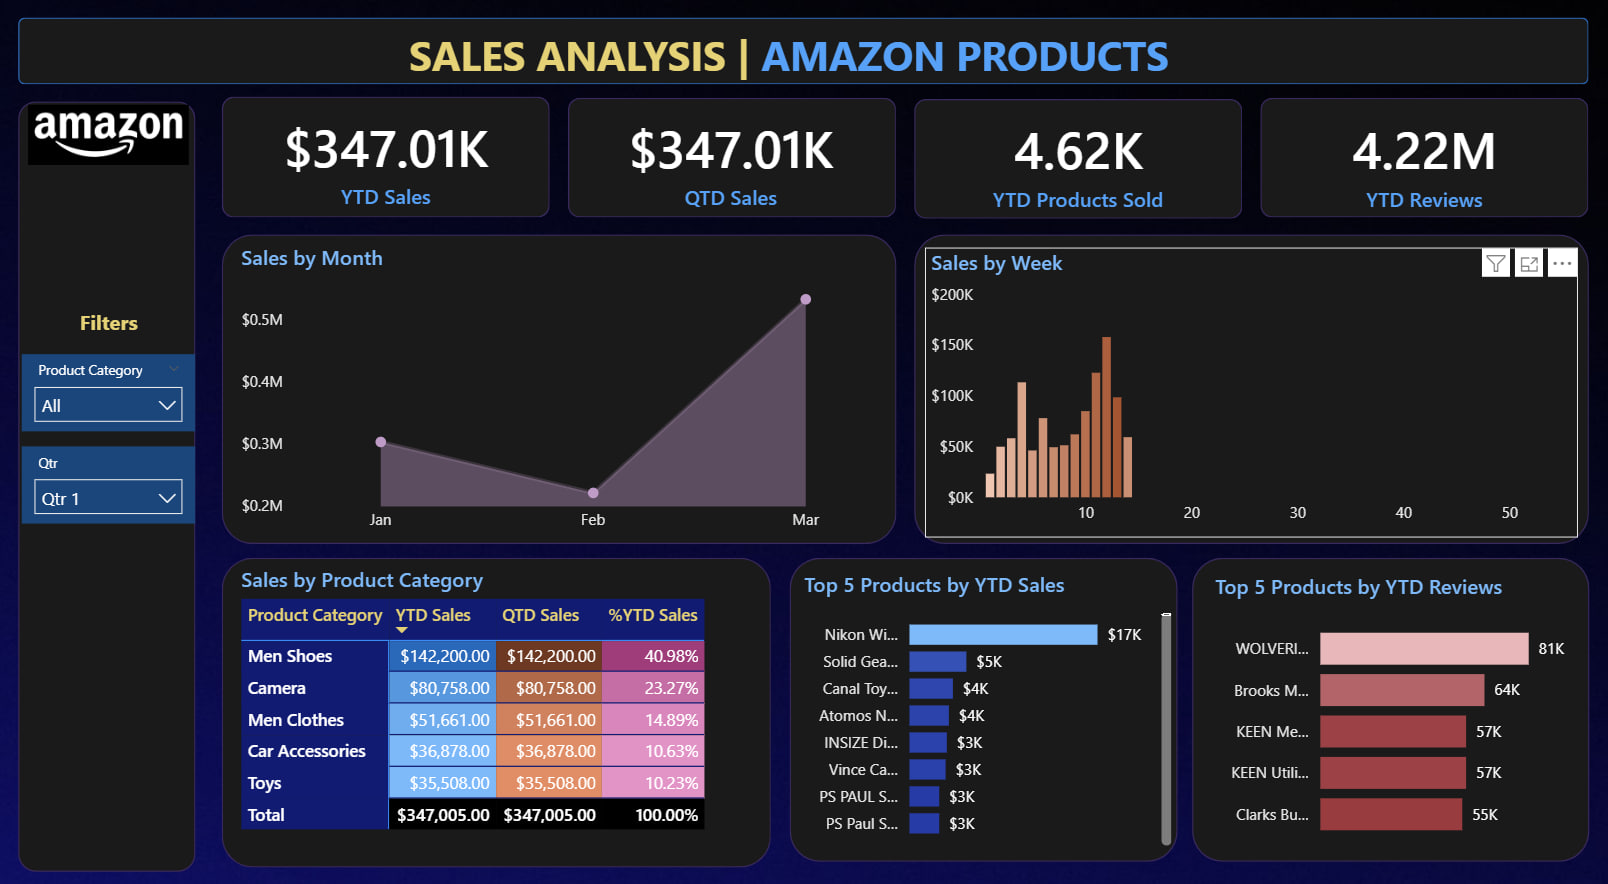

This screenshot's page, from the dashboard's own definition file:
{"tool":"powerbi","page":{"name":"Page 1","canvas":[1280,720],"ordinal":0},"visuals":[{"type":"card","fields":{"Values":["Amazon_Data.YTD Sales"]},"box":[180.9,86.4,259.1,96.4],"z":0,"group":"g1"},{"type":"shape","box":[20,88.2,140,608.2],"z":0},{"type":"card","fields":{"Values":["Amazon_Data.QTD Sales"]},"box":[453.6,87.3,259.1,96.4],"z":1000,"group":"g1"},{"type":"shape","box":[20,21.4,1240,52.9],"z":1000},{"type":"card","fields":{"Values":["Amazon_Data.YTD Products Sold"]},"box":[727.3,88.2,259.1,96.4],"z":2000,"group":"g1"},{"type":"textbox","box":[314,17,611,62.4],"z":2000},{"type":"card","fields":{"Values":["Amazon_Data.YTD Reviews"]},"box":[1000.9,88.2,259.1,96.4],"z":3000,"group":"g1"},{"type":"shape","box":[181.1,84.4,258.9,95.6],"z":3000},{"type":"shape","box":[1000.9,85.5,259.1,94.5],"z":4000},{"type":"shape","box":[727.6,86.4,259.1,94.5],"z":5000},{"type":"shape","box":[454.2,85.5,259.1,94.5],"z":6000},{"type":"group","id":"g1","title":"Group 1","box":[180.9,86.4,1079.1,98.2],"z":7000},{"type":"shape","box":[180.9,192.7,532.7,244.5],"z":8000},{"type":"areaChart","title":"Sales by Month","fields":{"Category":["Date Table.Month Name"],"Y":["Sum(Amazon_Data.Price(Dollar))"]},"box":[190.9,199.1,522.7,238.2],"z":9000},{"type":"shape","box":[727.3,192.7,532.7,244.5],"z":10000},{"type":"columnChart","title":"Sales by Week","fields":{"Category":["Date Table.Week"],"Y":["Sum(Amazon_Data.Price(Dollar))"]},"box":[735.5,203.6,515.5,228.2],"z":11000},{"type":"shape","box":[180.9,448.2,433.6,244.5],"z":12000},{"type":"pivotTable","title":"Sales by Product Category","fields":{"Rows":["Amazon_Data.Product Category"],"Values":["Amazon_Data.YTD Sales1","Amazon_Data.QTD Sales","Amazon_Data.YTD Sales"]},"box":[190.9,453.6,428.2,234.5],"z":13000},{"type":"shape","box":[629.1,448.2,306.4,240],"z":14000},{"type":"shape","box":[946.4,448.2,313.6,240],"z":15000},{"type":"clusteredBarChart","title":"Top 5 Products by YTD Sales","fields":{"Category":["Amazon_Data.Product Description"],"Y":["Amazon_Data.YTD Sales"]},"box":[635.5,458.2,300,222.7],"z":16000},{"type":"clusteredBarChart","title":"Top 5 Products by YTD Reviews","fields":{"Category":["Amazon_Data.Product Description"],"Y":["Amazon_Data.YTD Reviews"]},"box":[960,460,300,222.7],"z":17000},{"type":"image","box":[22.7,24.5,137.3,179.1],"z":18000},{"type":"slicer","fields":{"Values":["Amazon_Data.Product Category"]},"box":[22.7,287.3,137.3,60.9],"z":19000},{"type":"slicer","fields":{"Values":["Date Table.Qtr"]},"box":[22.7,360,137.3,60.9],"z":20000},{"type":"textbox","box":[22.7,246.4,137.3,40.9],"z":21000}]}

Visuals, with their boxes in screenshot pixels (x1, y1, x2, y2), scaled from the page's 1280x720 canvas onto the 1608x884 screenshot:
card - Amazon_Data.YTD Sales: (227, 106, 553, 224)
shape: (25, 108, 201, 855)
card - Amazon_Data.QTD Sales: (570, 107, 895, 226)
shape: (25, 26, 1583, 91)
card - Amazon_Data.YTD Products Sold: (914, 108, 1239, 227)
textbox: (394, 21, 1162, 97)
card - Amazon_Data.YTD Reviews: (1257, 108, 1583, 227)
shape: (228, 104, 553, 221)
shape: (1257, 105, 1583, 221)
shape: (914, 106, 1240, 222)
shape: (571, 105, 896, 221)
"Group 1" group: (227, 106, 1583, 227)
shape: (227, 237, 896, 537)
"Sales by Month" areaChart: (240, 244, 896, 537)
shape: (914, 237, 1583, 537)
"Sales by Week" columnChart: (924, 250, 1572, 530)
shape: (227, 550, 772, 850)
"Sales by Product Category" pivotTable: (240, 557, 778, 845)
shape: (790, 550, 1175, 845)
shape: (1189, 550, 1583, 845)
"Top 5 Products by YTD Sales" clusteredBarChart: (798, 563, 1175, 836)
"Top 5 Products by YTD Reviews" clusteredBarChart: (1206, 565, 1583, 838)
image: (29, 30, 201, 250)
slicer - Amazon_Data.Product Category: (29, 353, 201, 428)
slicer - Date Table.Qtr: (29, 442, 201, 517)
textbox: (29, 303, 201, 353)
